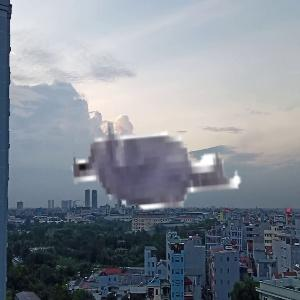drone: (22, 45, 270, 293)
